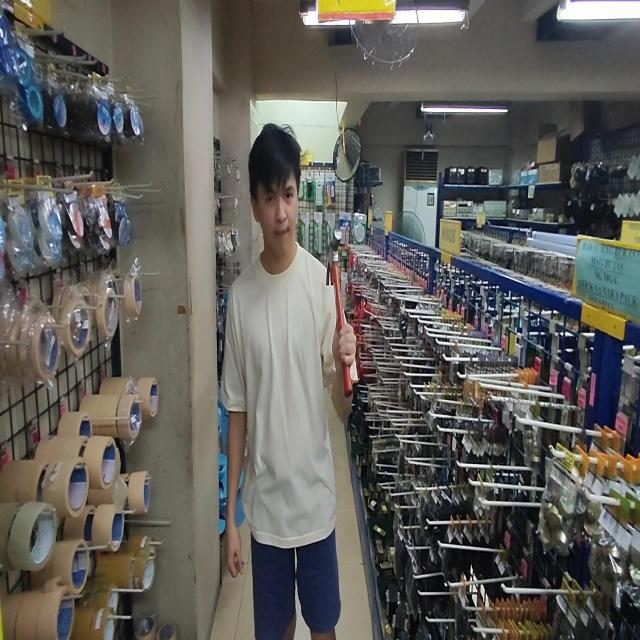hammer: (325, 227, 356, 398)
